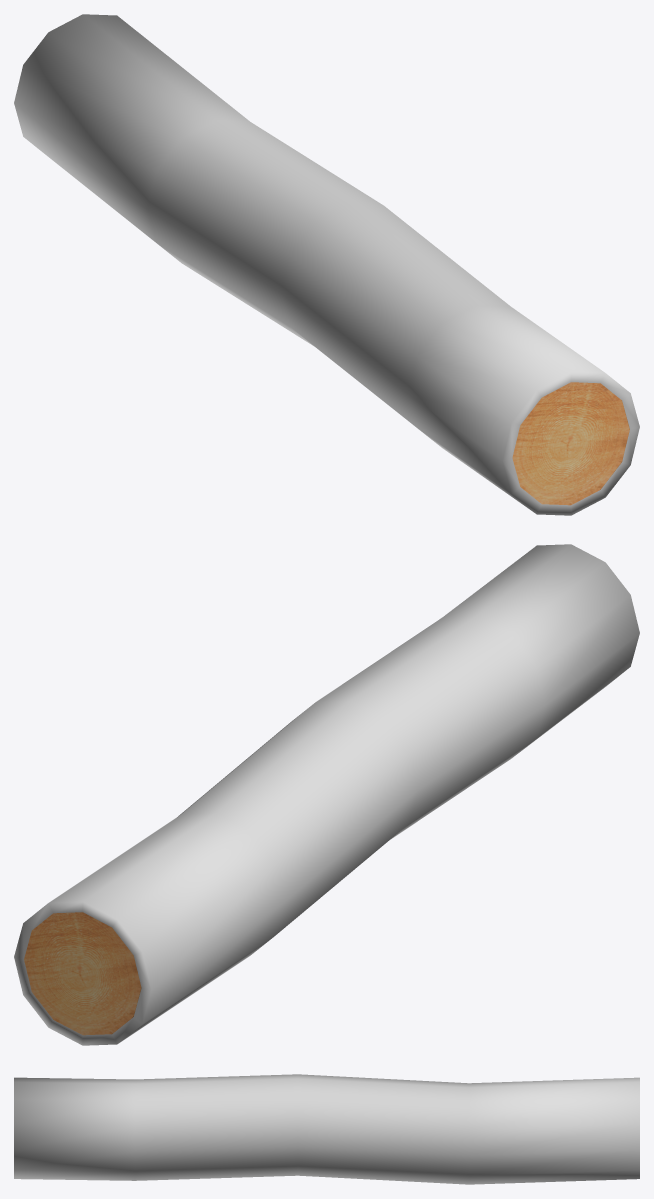
Rendered from Firewood.fbx.
The picture shows the model from 3 angles, top to bottom: view 1: azimuth 30°, elevation 25°; view 2: azimuth 150°, elevation 25°; view 3: azimuth 270°, elevation 25°; orthographic projection. The views are drawn at different scales.
Parts seen in each view (by area): view 1: Cylinder, Cylinder.001; view 2: Cylinder, Cylinder.001; view 3: Cylinder.
Part boxes in pixels (x1,y1,x2,y2): Cylinder: (14, 14, 639, 515); Cylinder.001: (512, 382, 629, 505); Cylinder: (14, 544, 639, 1045); Cylinder.001: (24, 912, 141, 1035); Cylinder: (14, 1074, 639, 1184).
Size of the model in its own units: 4.64 by 5.09 by 28.52.
